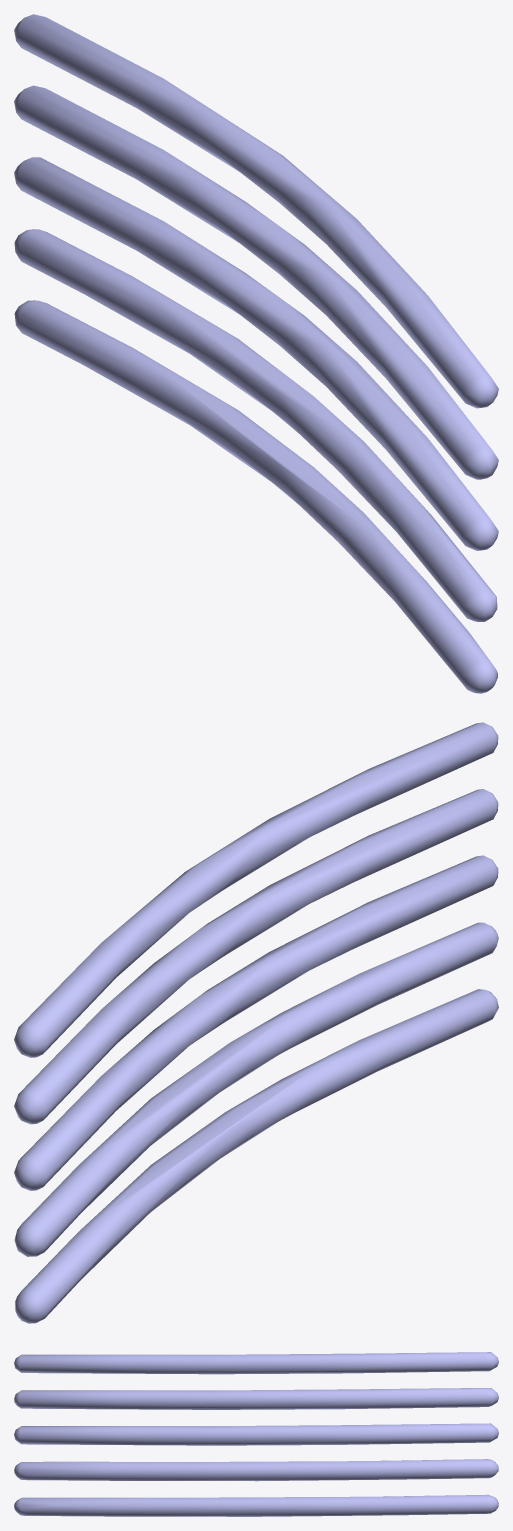
Rendered from SM_NeonGate.fbx.
The picture shows the model from 3 angles, top to bottom: view 1: azimuth 30°, elevation 25°; view 2: azimuth 150°, elevation 25°; view 3: azimuth 270°, elevation 25°; orthographic projection. The views are drawn at different scales.
Visible parts, largest first — view 1: SM_NeonGate; view 2: SM_NeonGate; view 3: SM_NeonGate.
Part boxes in pixels (<box>): SM_NeonGate: <box>14,14,498,693</box>; SM_NeonGate: <box>14,722,498,1323</box>; SM_NeonGate: <box>14,1352,498,1516</box>.
Size of the model in its own units: 19.28 by 80.33 by 207.
